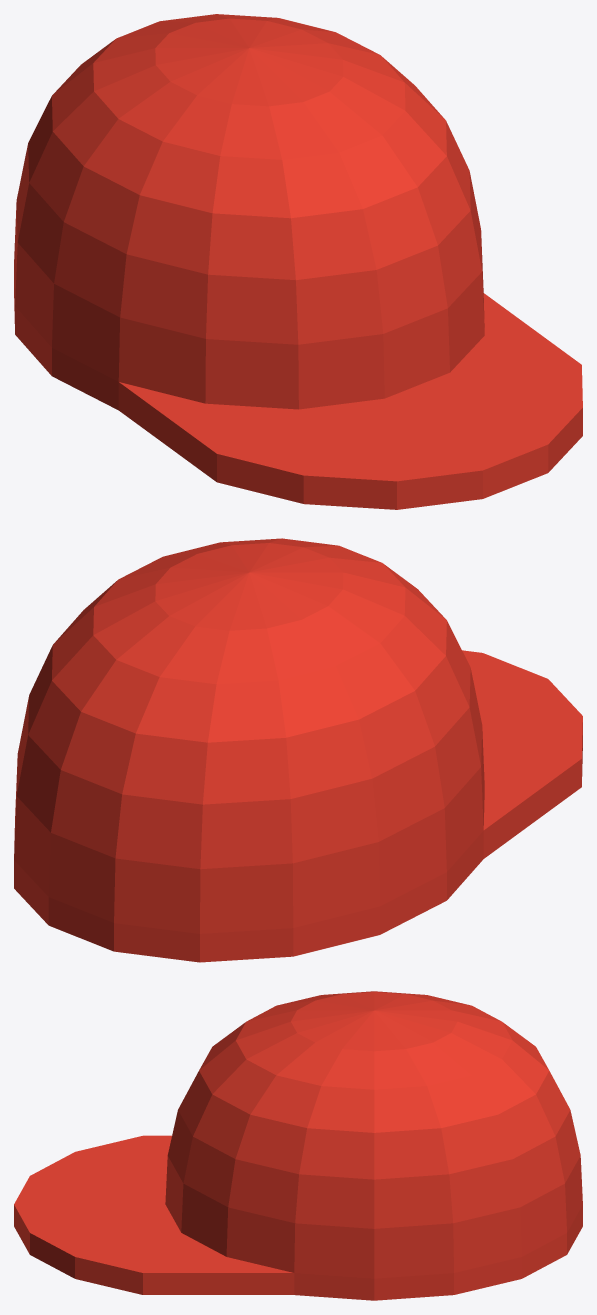
The model's file is Cap.fbx.
3 views of the same model, one above another, from view 1: azimuth 30°, elevation 25°; view 2: azimuth 150°, elevation 25°; view 3: azimuth 270°, elevation 25° (orthographic). The views are drawn at different scales.
Parts seen in each view (by area): view 1: Player; view 2: Player; view 3: Player.
Part boxes in pixels (x1=…): Player: x1=14, y1=14, x2=582, y2=509; Player: x1=14, y1=538, x2=582, y2=962; Player: x1=14, y1=991, x2=582, y2=1300.
Bounding box in the file's own units: 52.74 × 35.97 × 85.33.
